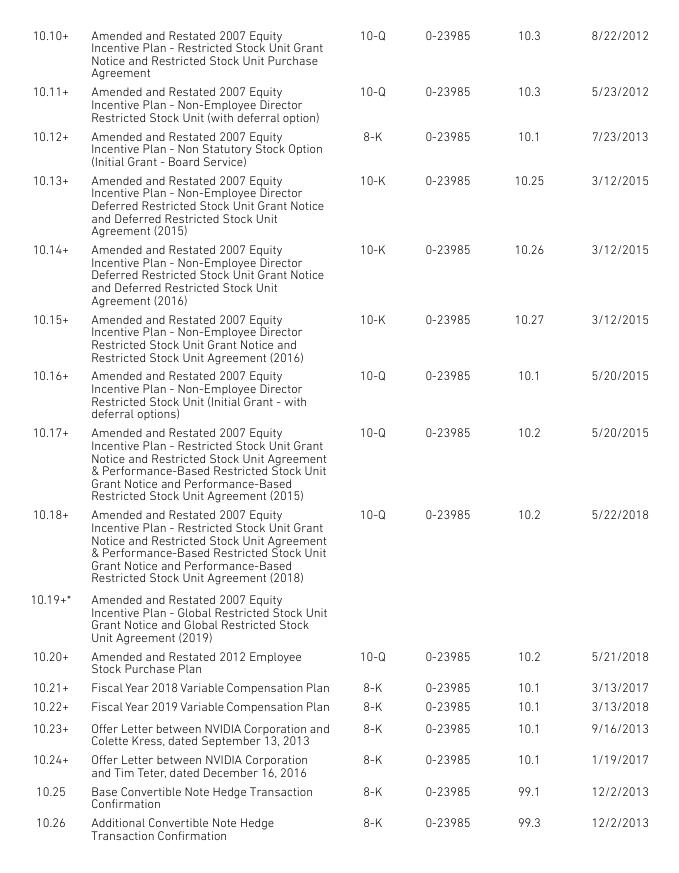table: (29, 29, 647, 842)
table column: (80, 29, 343, 842), (404, 29, 491, 842), (566, 29, 647, 842), (491, 29, 566, 842), (343, 29, 404, 842), (29, 29, 80, 842)
table column header: (29, 29, 647, 82)
table row: (29, 505, 647, 589), (29, 423, 647, 505), (29, 240, 647, 310), (29, 171, 647, 240), (29, 589, 647, 647), (29, 366, 647, 423), (29, 310, 647, 366), (29, 29, 647, 82), (29, 126, 647, 171), (29, 82, 647, 126), (29, 717, 647, 750), (29, 750, 647, 782), (29, 647, 647, 678), (29, 782, 647, 813), (29, 813, 647, 842), (29, 697, 647, 717), (29, 678, 647, 697)
